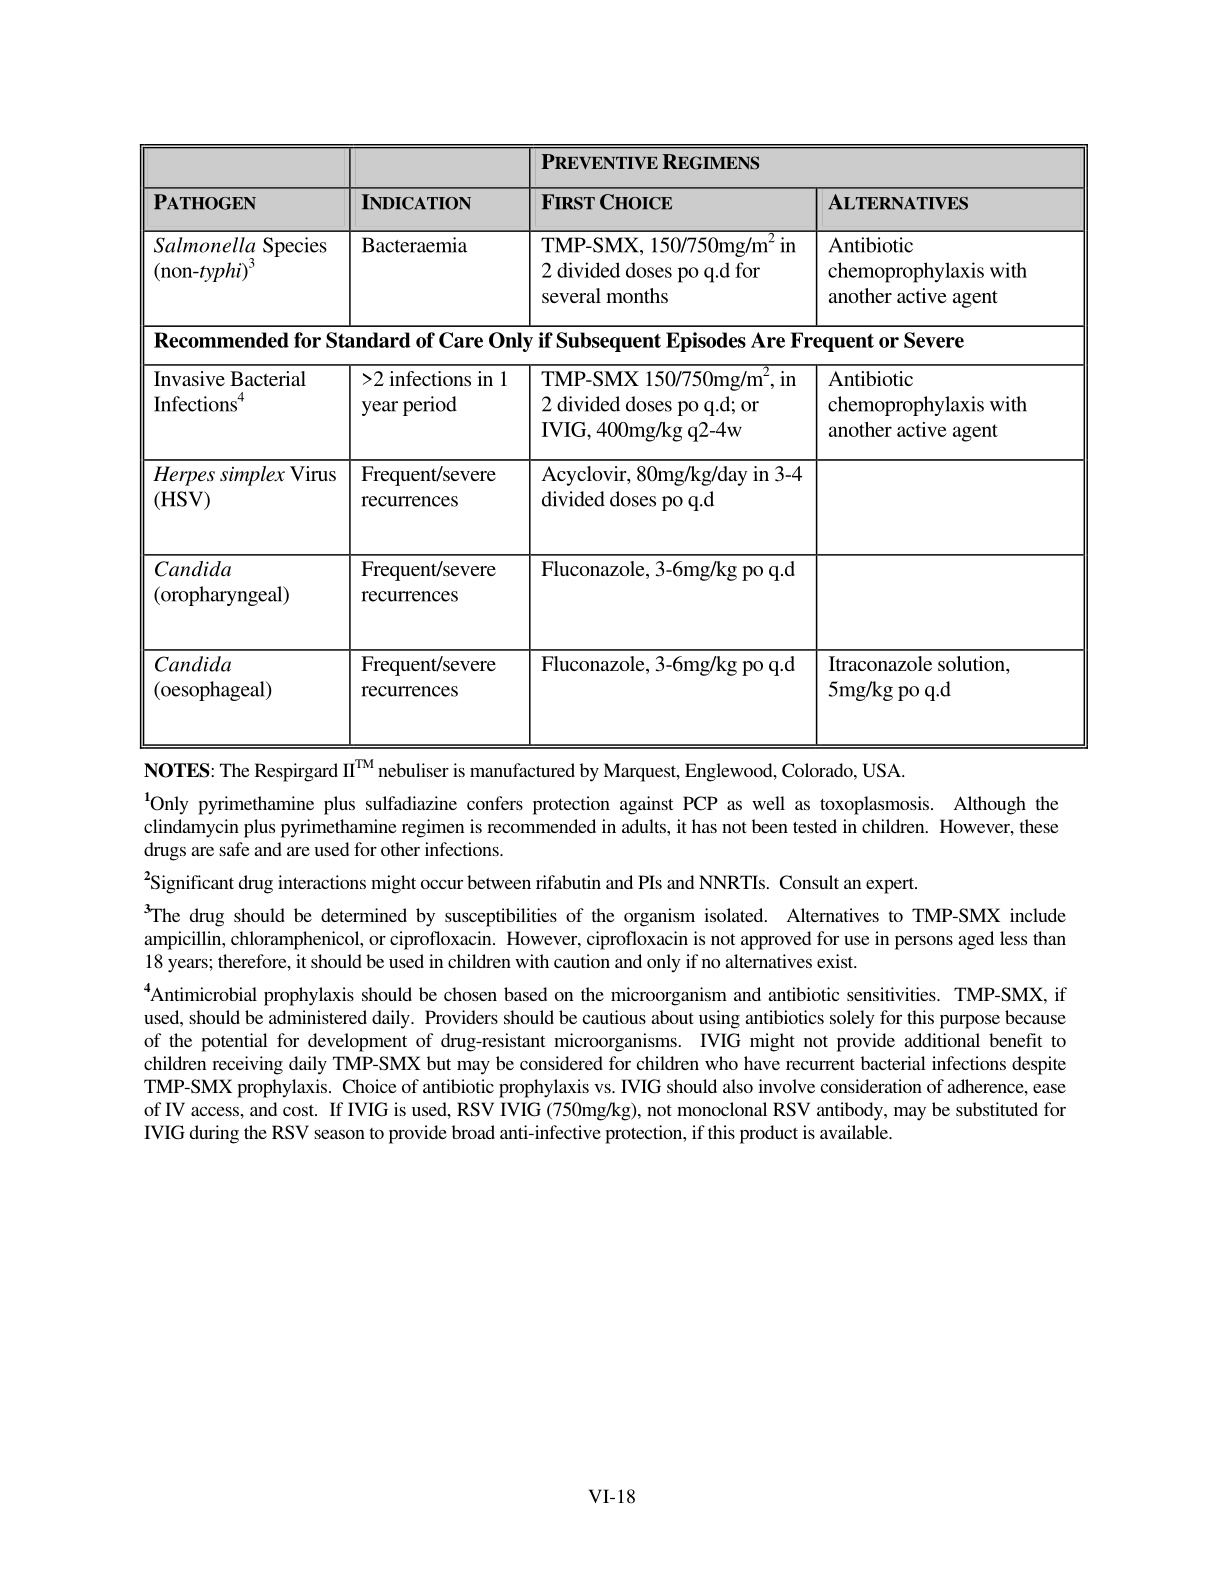merged_cells: (139, 143, 1089, 750)
